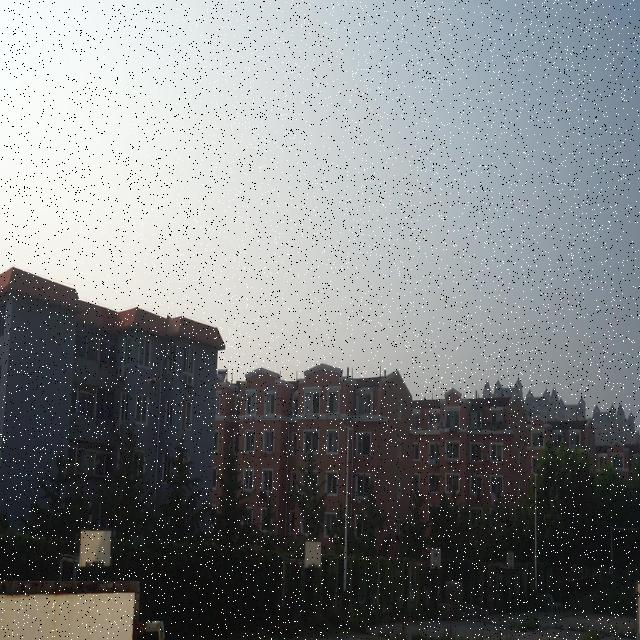UAV: (145, 377, 161, 389)
